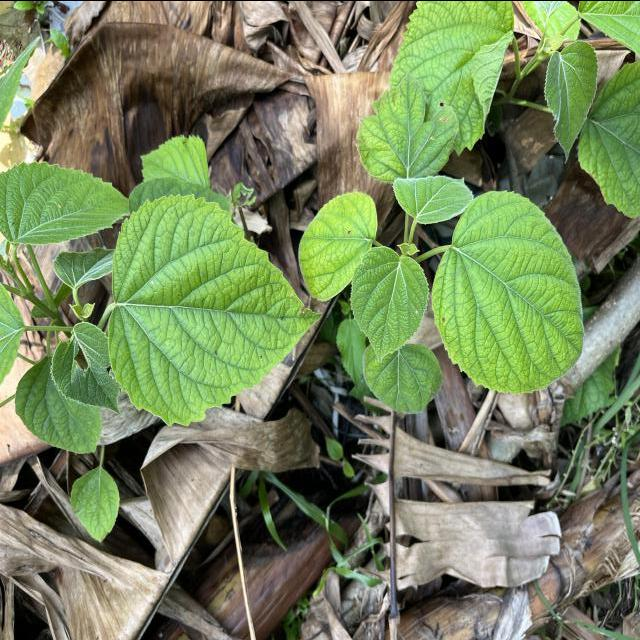Clerodendrum infortunatum: (106, 192, 323, 437), (429, 188, 585, 396), (0, 158, 132, 246), (348, 244, 431, 364), (296, 190, 378, 302), (362, 342, 444, 414)
